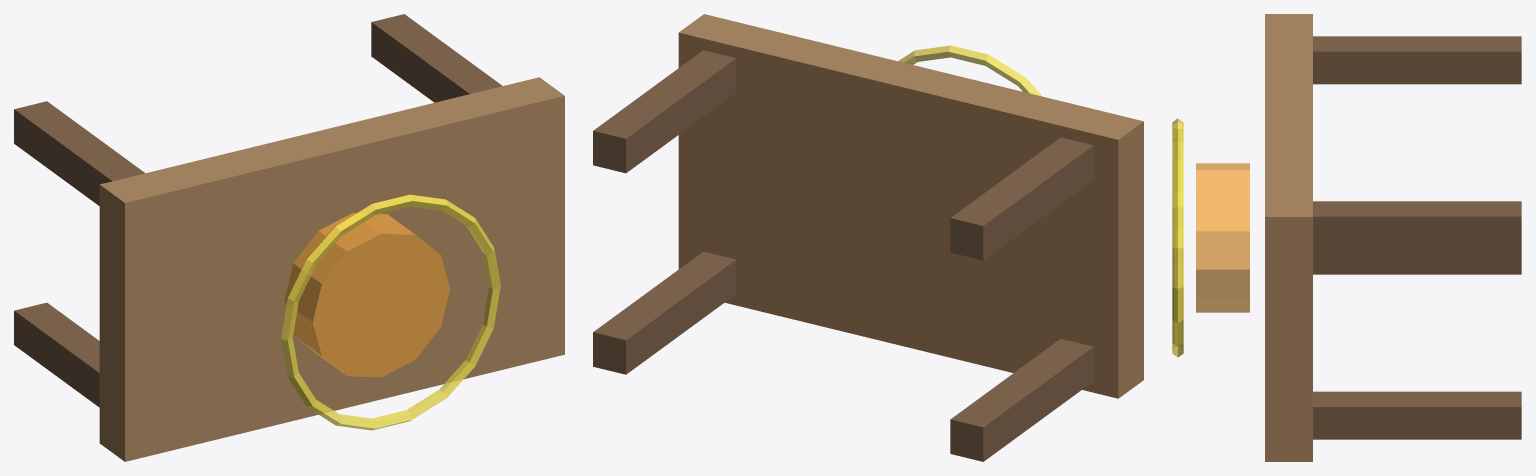
File: 12_upgrade_forge.glb
The picture shows the model from 3 angles, left to right: view 1: azimuth 30°, elevation 25°; view 2: azimuth 150°, elevation 25°; view 3: azimuth 270°, elevation 25°; orthographic projection. The views are drawn at different scales.
Parts seen in each view (by area): view 1: table_top, upgrade_core, upgrade_ring, leg_3, leg_4, leg_1; view 2: table_top, leg_1, leg_4, leg_2, leg_3, upgrade_ring; view 3: table_top, leg_2, leg_3, leg_4, upgrade_core, leg_1, upgrade_ring.
Part boxes in pixels (x1,y1,x2,y2): table_top: (99,77,564,461); upgrade_core: (284,212,449,377); upgrade_ring: (281,194,500,430); leg_3: (14,101,144,205); leg_4: (371,14,502,102); leg_1: (14,302,99,407); table_top: (678,14,1143,398); leg_1: (950,339,1093,461); leg_4: (593,50,736,173); leg_2: (593,251,736,374); leg_3: (950,137,1093,260); upgrade_ring: (898,45,1042,96); table_top: (1265,14,1312,461); leg_2: (1313,391,1521,439); leg_3: (1313,36,1521,84); leg_4: (1313,201,1521,249); upgrade_core: (1196,163,1249,312); leg_1: (1313,249,1521,274); upgrade_ring: (1172,118,1183,357).
Bounding box in the file's own units: 1.6 × 0.9 × 1.16.
